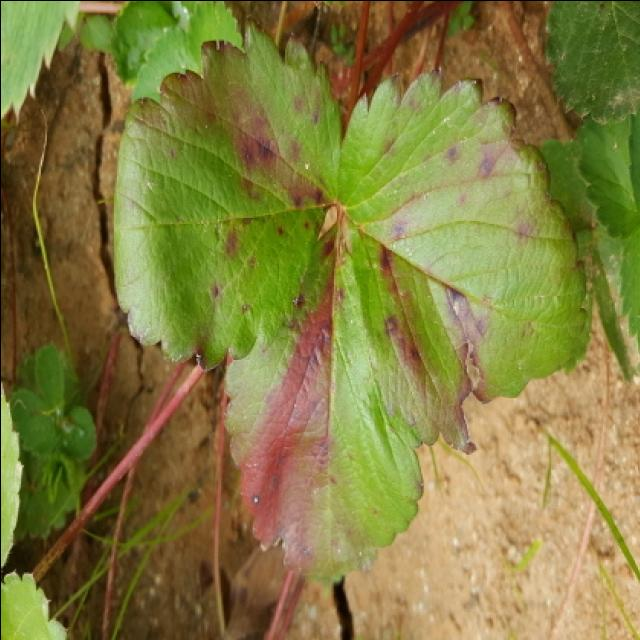Leaf Spot: (337, 65, 587, 454), (112, 18, 340, 373), (221, 216, 424, 587)
